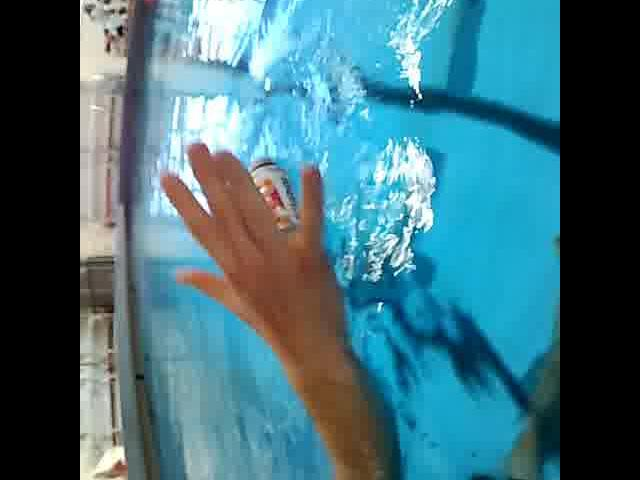Bottle: (245, 148, 301, 231)
